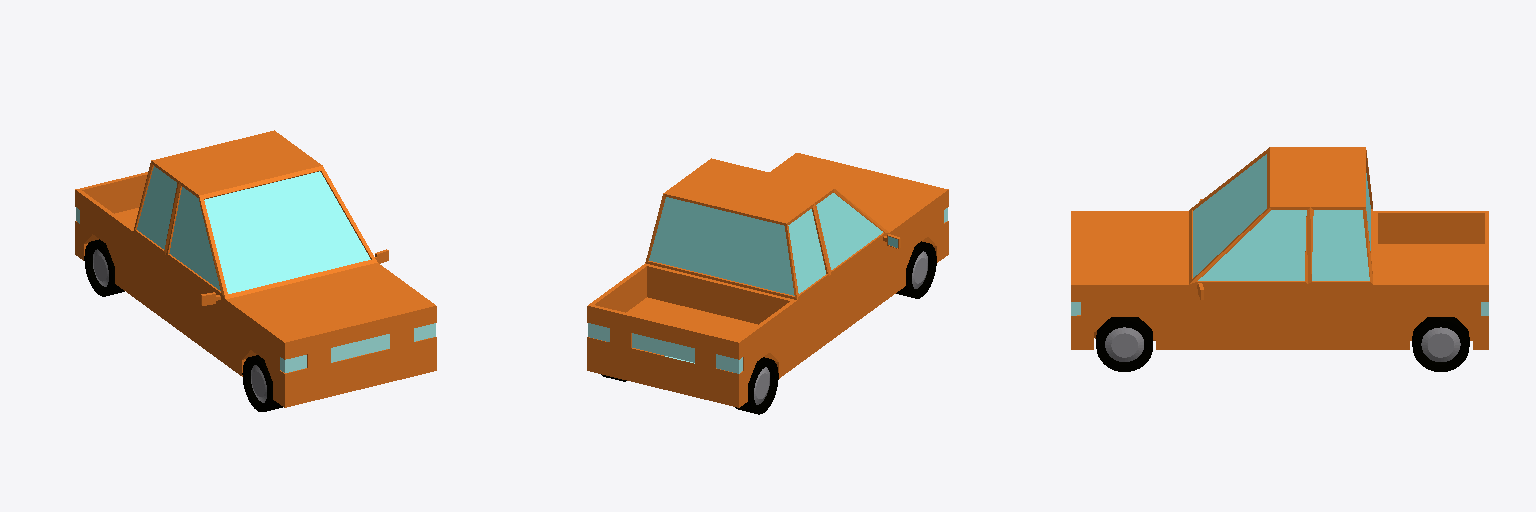
The picture shows the model from 3 angles: view 1: azimuth 30°, elevation 25°; view 2: azimuth 150°, elevation 25°; view 3: azimuth 270°, elevation 25°; orthographic projection.
Parts seen in each view (by area): view 1: Car2_Cube.002; view 2: Car2_Cube.002; view 3: Car2_Cube.002.
Part boxes in pixels (x1,y1,x2,y2): Car2_Cube.002: (75,130,436,411); Car2_Cube.002: (587,153,948,414); Car2_Cube.002: (1071,147,1488,371).
Size of the model in its own units: 2.46 by 1.99 by 4.77.
Materials: 1 (1 with a texture image).